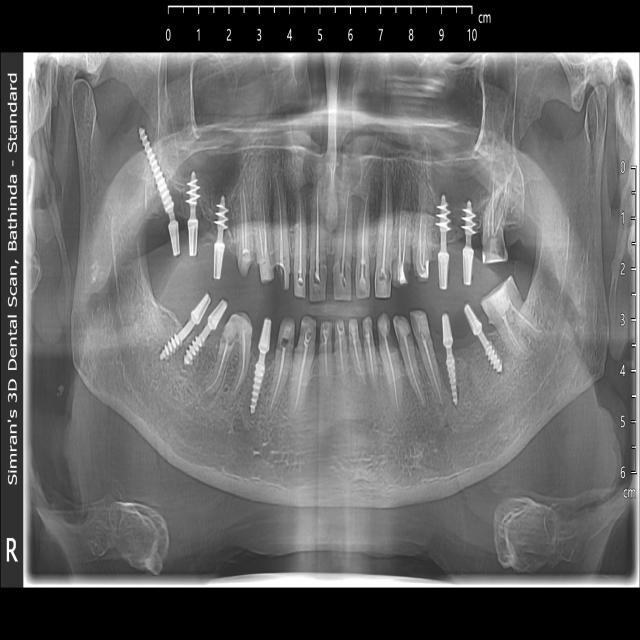Implant: (138, 125, 179, 258), (159, 295, 212, 362), (182, 299, 226, 370), (465, 304, 501, 375), (250, 317, 272, 415), (442, 315, 457, 404), (211, 196, 225, 281), (436, 210, 449, 288), (464, 206, 476, 283), (188, 173, 197, 258)
Root Canal Treatment: (483, 277, 545, 357), (205, 315, 252, 403), (412, 310, 445, 406), (393, 320, 426, 410), (482, 163, 512, 260), (290, 316, 316, 422), (254, 172, 277, 281), (378, 316, 403, 415), (269, 319, 294, 417), (376, 169, 395, 295), (270, 163, 289, 286), (309, 176, 328, 296), (334, 182, 352, 298), (236, 173, 255, 280), (393, 179, 412, 283), (357, 182, 370, 299), (294, 189, 307, 297), (415, 182, 430, 275), (348, 320, 367, 385), (363, 316, 378, 388), (334, 320, 348, 386), (320, 320, 333, 389)
